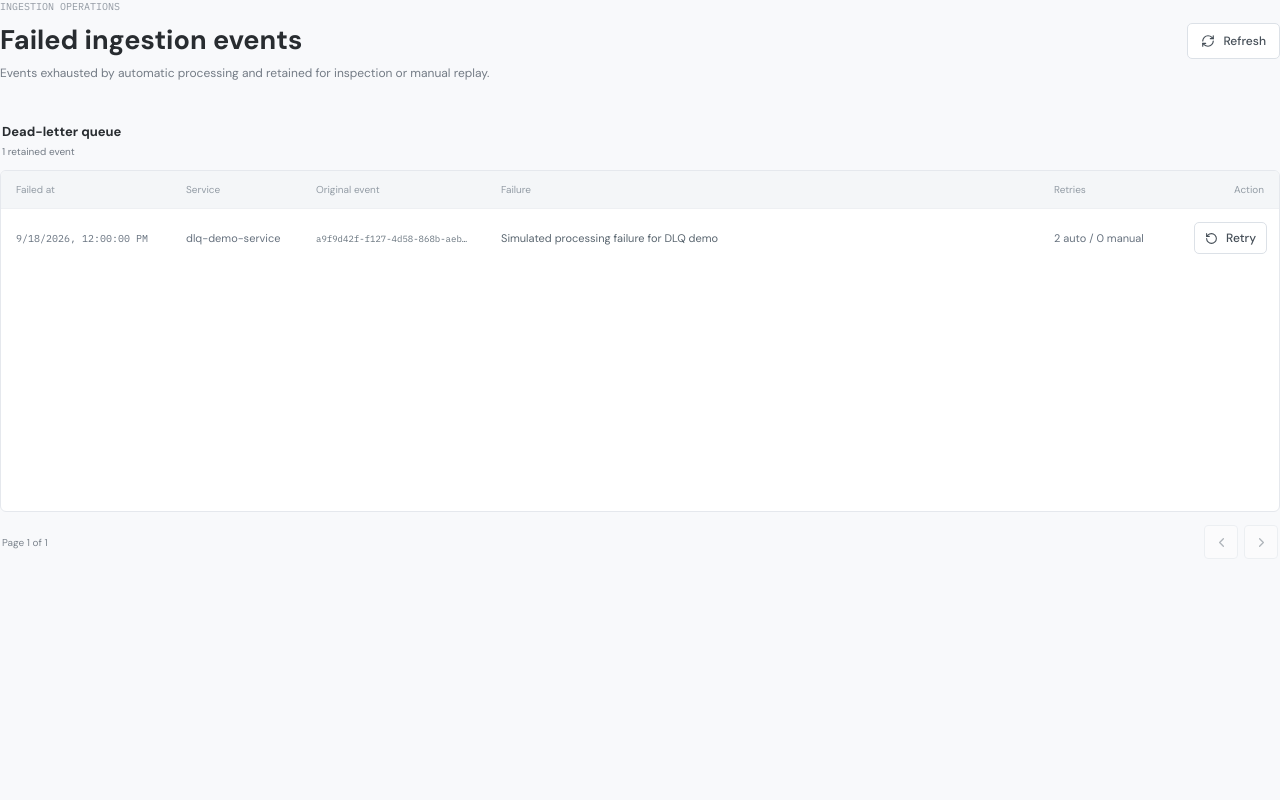
it: summarizes the DLQ demo failure and keeps the full exception in details
Click the button "Simulated processing failure for DLQ demo": (610, 238) [501,231,1024,245]
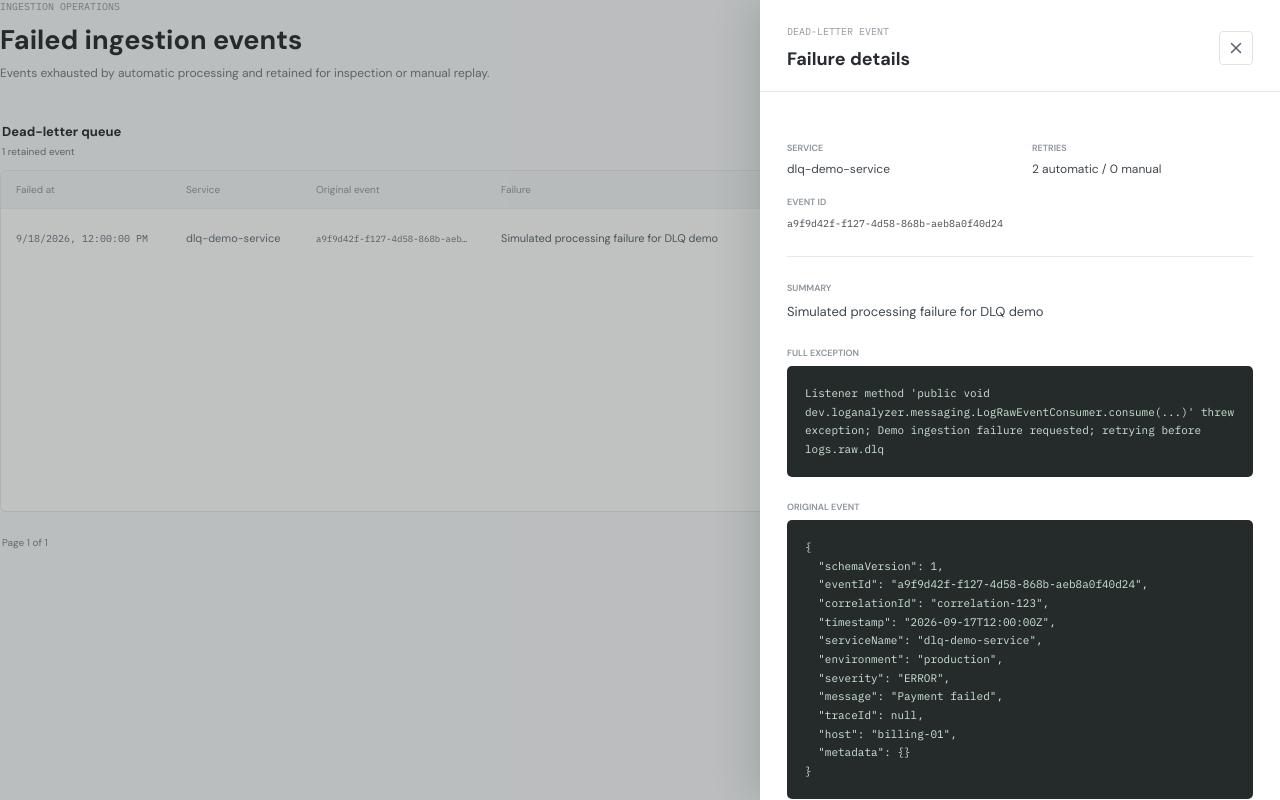
Result: the dialog "Failure details" is shown at [760,0,1279,799]
Result: the text "Listener method 'public void dev.loganalyzer.messaging.LogRawEventConsumer.consume(...)' threw exception; Demo ingestion" is shown at [805,386,1241,456]
Result: the text "\"serviceName\": \"dlq-demo-service\"" is shown at [805,540,1148,778]
